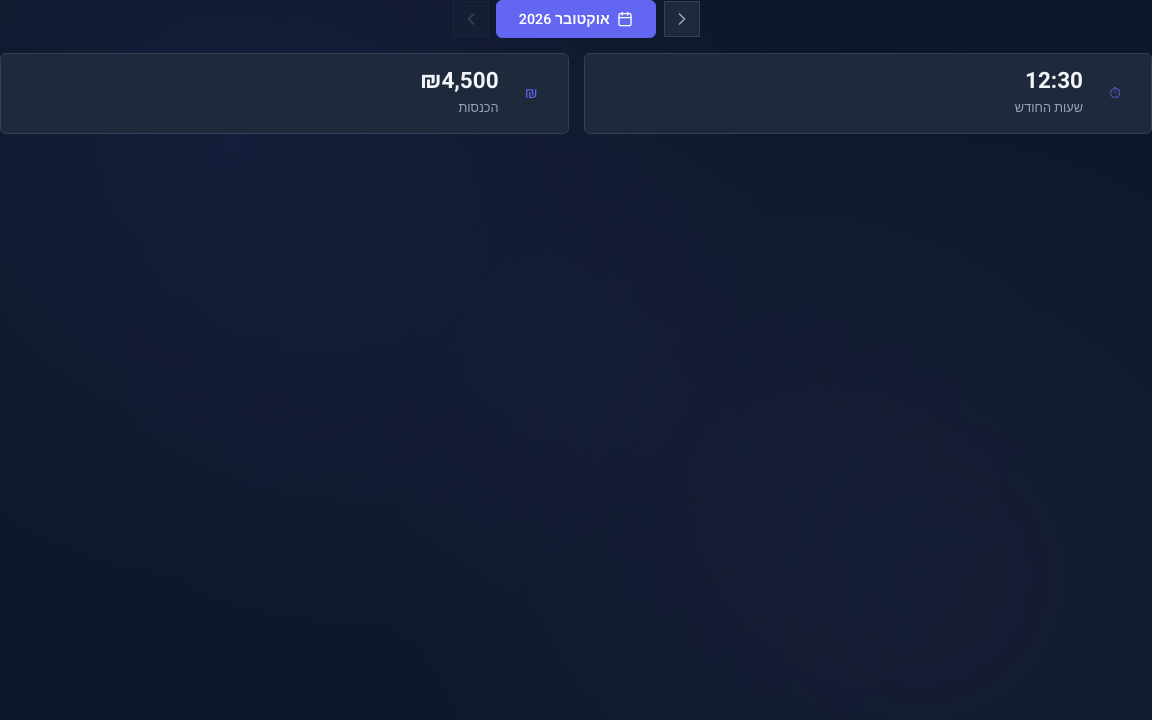
Test: StatsBar - date range modal › pre-fills the first and last day of the selected month (local calendar days)
This screenshot has width=1152, height=720.
Click the button titled "בחר טווח תאריכים".
click(576, 19)  # box [496,0,656,38]
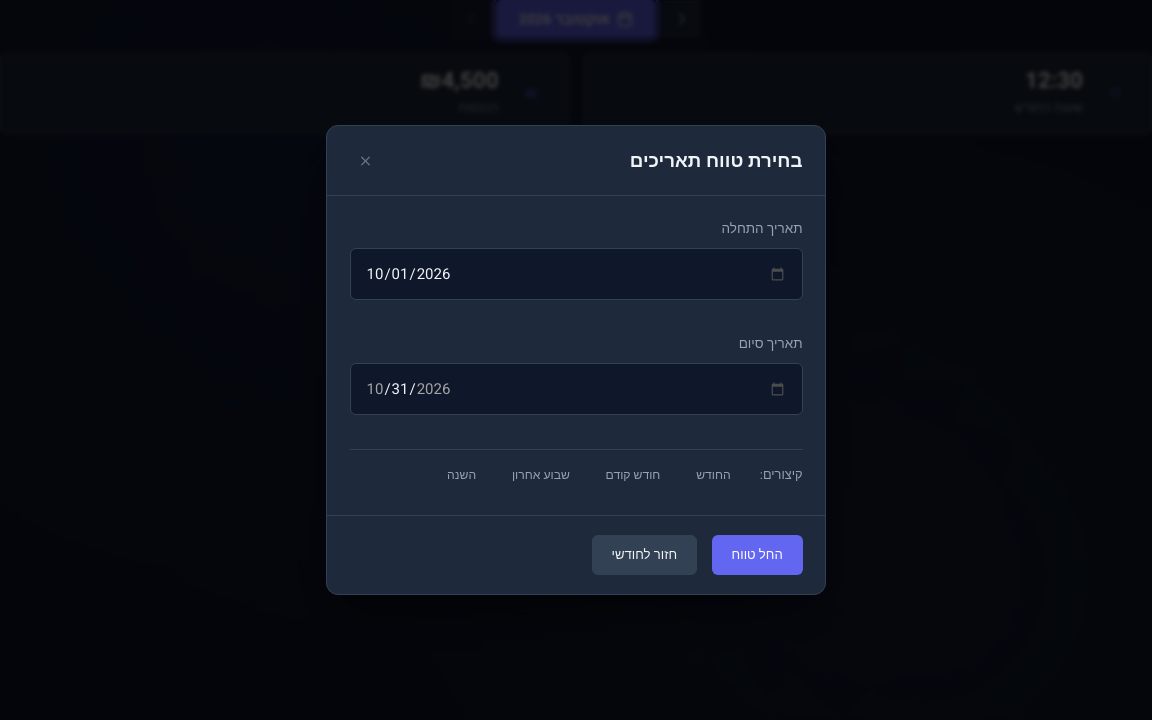
Check: the heading "בחירת טווח תאריכים" is shown, box [630,146,802,176]
Check: the date field below "תאריך התחלה" holds "2026-10-01", box [350,248,802,300]
Check: the date field below "תאריך סיום" holds "2026-10-31", box [350,363,802,415]
